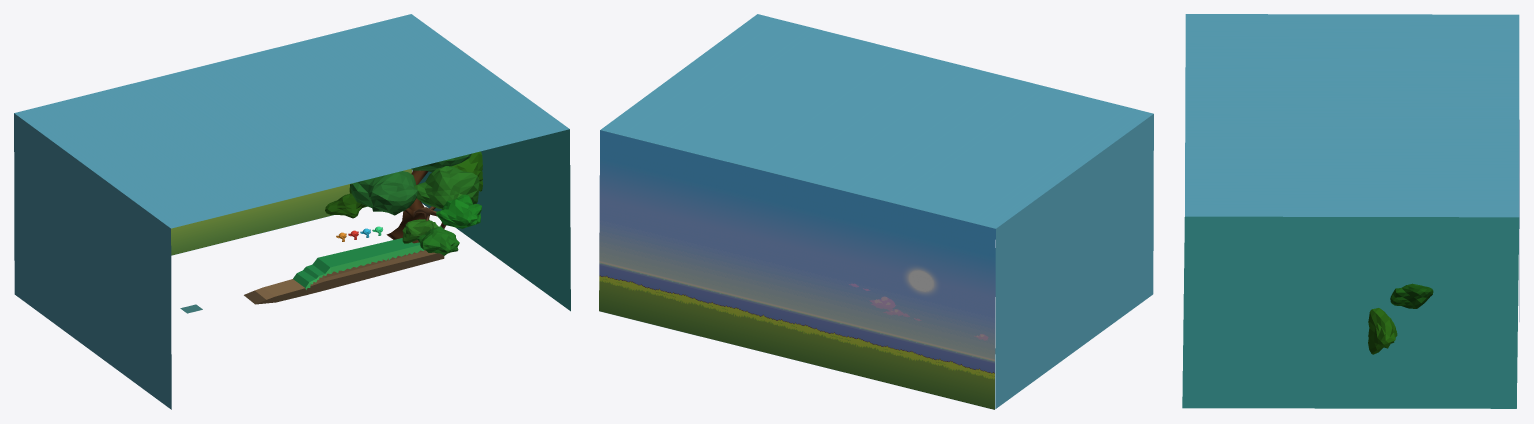
The model's file is wake.glb.
The picture shows the model from 3 angles, left to right: view 1: azimuth 30°, elevation 25°; view 2: azimuth 150°, elevation 25°; view 3: azimuth 270°, elevation 25°; orthographic projection. The views are drawn at different scales.
Parts seen in each view (by area): view 1: bg, Cube, Icosphere.014, Icosphere.002, Icosphere, Cube.001, Icosphere.001, Icosphere.013, Icosphere.003; view 2: bg; view 3: bg, Icosphere.007, Icosphere.005.
Part boxes in pixels (left/top/right/bottom): bg: left=14, top=14, right=570, bottom=409; Cube: left=244, top=238, right=444, bottom=304; Icosphere.014: left=350, top=171, right=417, bottom=215; Icosphere.002: left=414, top=166, right=479, bottom=209; Icosphere: left=436, top=194, right=481, bottom=228; Cube.001: left=386, top=170, right=446, bottom=243; Icosphere.001: left=417, top=226, right=459, bottom=255; Icosphere.013: left=325, top=193, right=366, bottom=218; Icosphere.003: left=402, top=219, right=438, bottom=243; bg: left=599, top=14, right=1153, bottom=409; bg: left=1182, top=14, right=1519, bottom=408; Icosphere.007: left=1368, top=308, right=1397, bottom=354; Icosphere.005: left=1390, top=283, right=1433, bottom=308.
Size of the model in its own units: 79.92 by 33.89 by 53.06.
Materials: 25 (2 with a texture image).
